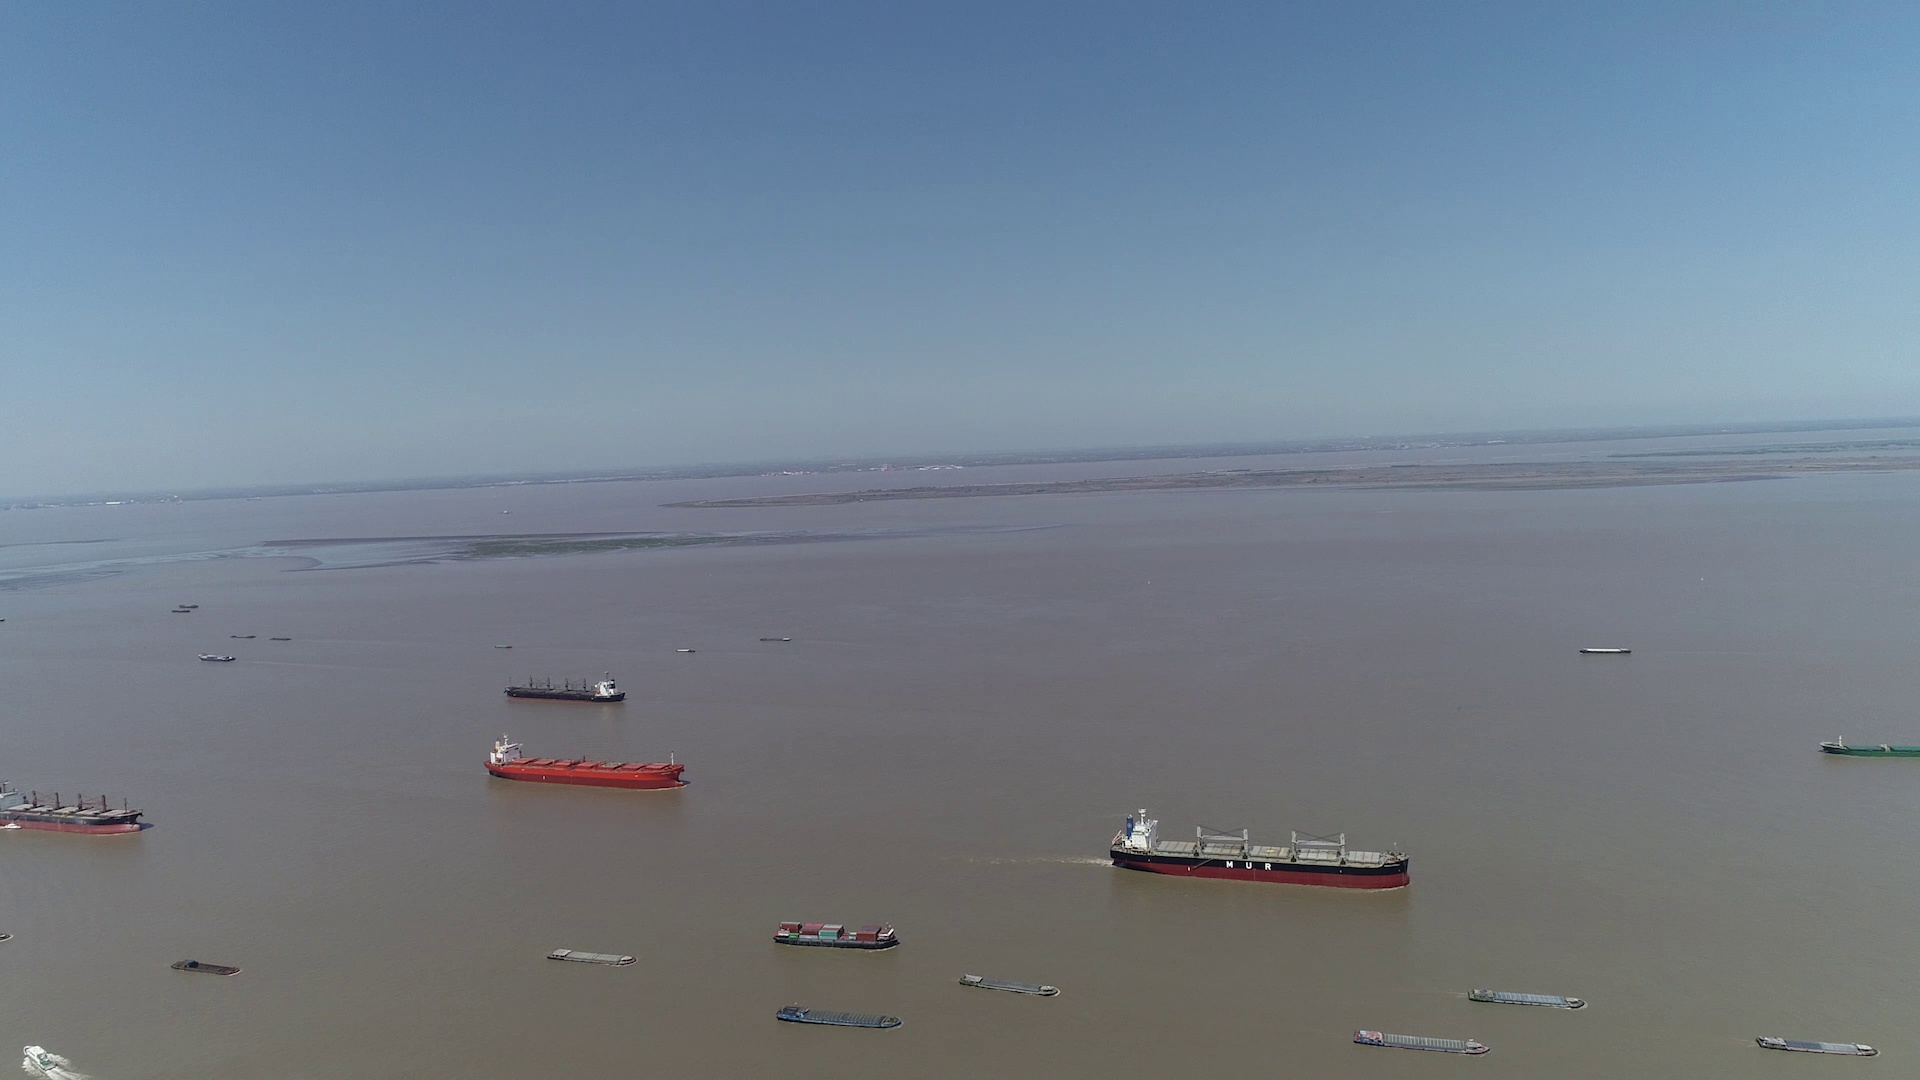ship: (1104, 807, 1415, 891), (483, 731, 687, 789), (0, 775, 149, 836), (1353, 1029, 1491, 1056), (502, 673, 625, 703), (771, 920, 899, 949), (774, 1005, 901, 1030), (1755, 1034, 1876, 1058), (1470, 986, 1585, 1007), (1818, 735, 1919, 758), (961, 975, 1062, 998), (546, 947, 638, 967), (18, 1043, 65, 1076), (171, 959, 243, 975), (1578, 647, 1631, 655), (196, 650, 236, 661), (1, 928, 12, 942)
